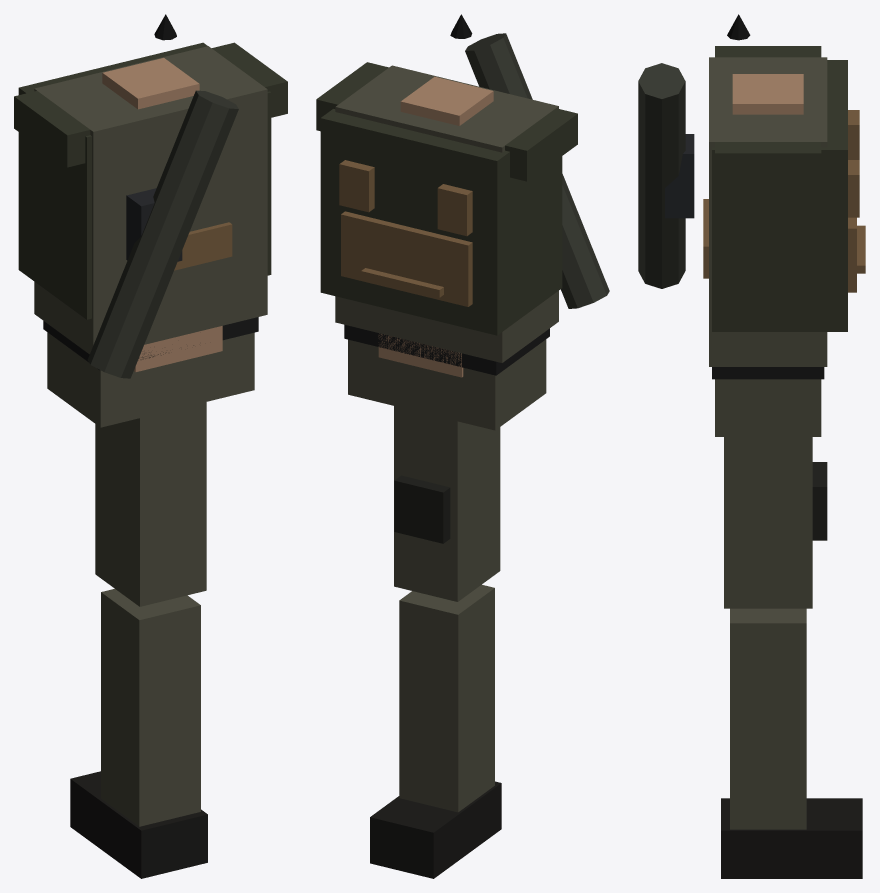
The model's file is operator_ash.glb.
3 views of the same model, side by side, from view 1: azimuth 30°, elevation 25°; view 2: azimuth 150°, elevation 25°; view 3: azimuth 270°, elevation 25° (orthographic). The views are drawn at different scales.
Parts seen in each view (by area): view 1: torso, legL, hips, head; view 2: torso, legL, hips, head; view 3: torso, legL, hips, head.
Part boxes in pixels (x1,y1,x2,y2): torso: [14, 14, 287, 378]; legL: [70, 402, 207, 878]; hips: [43, 317, 258, 427]; head: [134, 222, 232, 372]; torso: [316, 14, 609, 362]; legL: [370, 406, 501, 878]; hips: [344, 324, 549, 430]; head: [361, 268, 463, 377]; torso: [638, 14, 859, 366]; legL: [721, 437, 862, 878]; hips: [712, 367, 824, 436]; head: [703, 199, 865, 278].
Bounding box in the file's own units: 0.4369 × 1.58 × 0.385.
